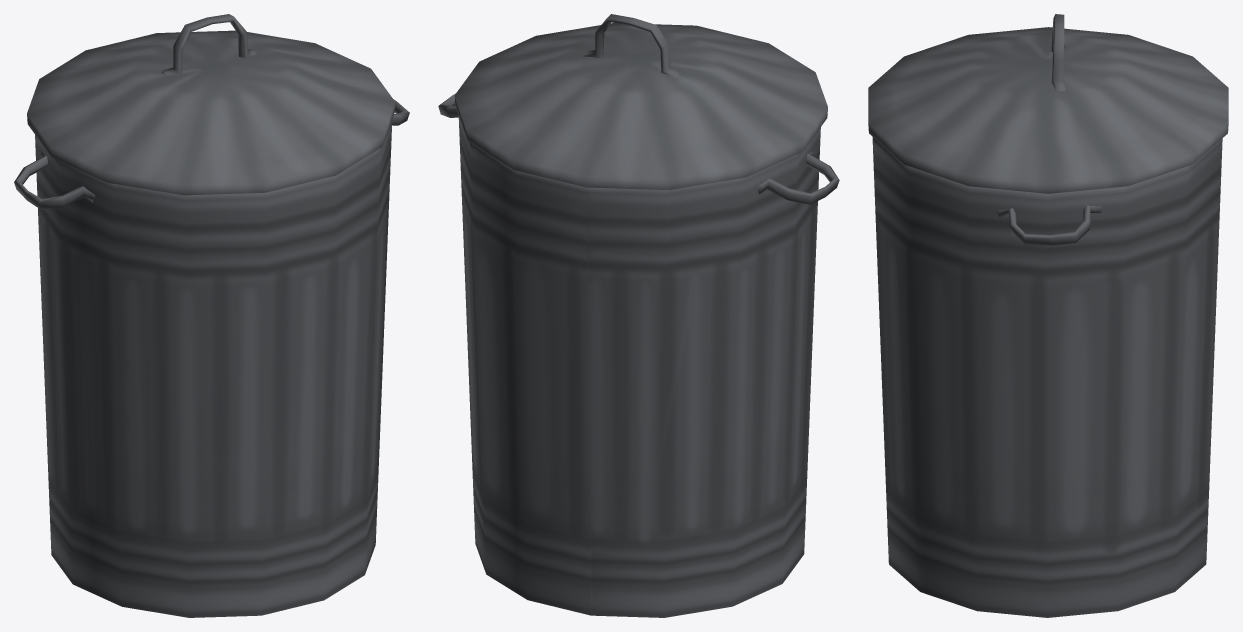
Rendered from Bin.fbx.
The picture shows the model from 3 angles, left to right: view 1: azimuth 30°, elevation 25°; view 2: azimuth 150°, elevation 25°; view 3: azimuth 270°, elevation 25°; orthographic projection.
Visible parts, largest first — view 1: Bin, BinLid, BinLidHandle, BinLidHandle1; view 2: Bin, BinLid, BinLidHandle1, BinLidHandle; view 3: Bin, BinLid, BinLidHandle2, BinLidHandle.
Part boxes in pixels (x1,y1,x2,y2): Bin: [35, 120, 392, 617]; BinLid: [27, 30, 395, 195]; BinLidHandle: [161, 14, 257, 76]; BinLidHandle1: [14, 152, 95, 209]; Bin: [458, 116, 820, 617]; BinLid: [454, 23, 827, 189]; BinLidHandle1: [757, 150, 839, 204]; BinLidHandle: [583, 14, 679, 78]; Bin: [872, 137, 1222, 617]; BinLid: [868, 27, 1228, 193]; BinLidHandle2: [996, 205, 1102, 245]; BinLidHandle: [1051, 14, 1065, 91].
Size of the model in its own units: 7.69 by 10.48 by 6.43.
